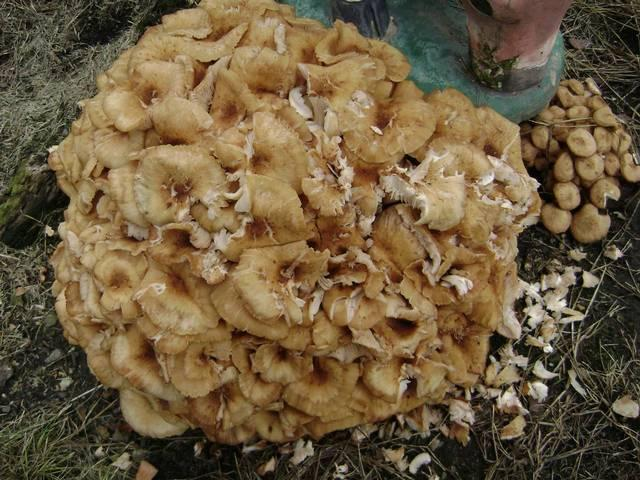Edible Mushroom: (46, 0, 543, 447), (525, 72, 640, 242)
